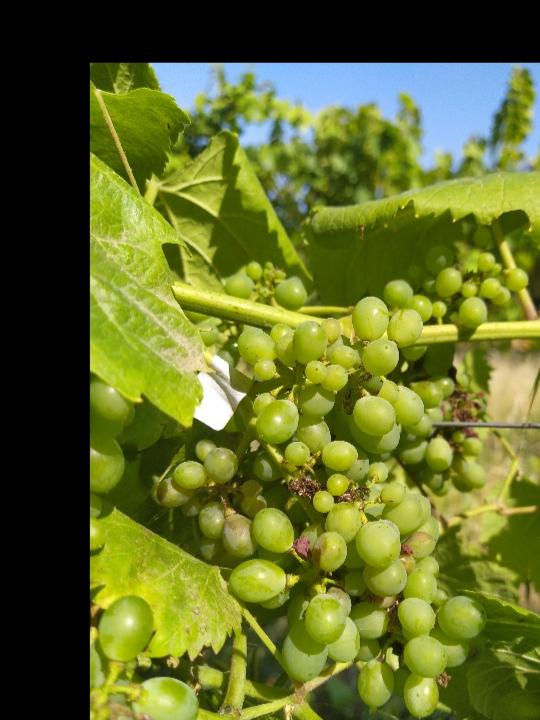grape: (146, 292, 490, 717)
